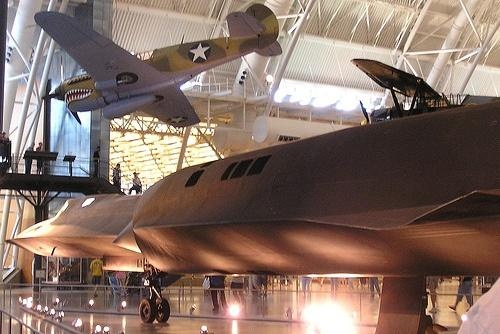aeroplane: (10, 95, 500, 334), (33, 1, 283, 149), (348, 54, 500, 130)
